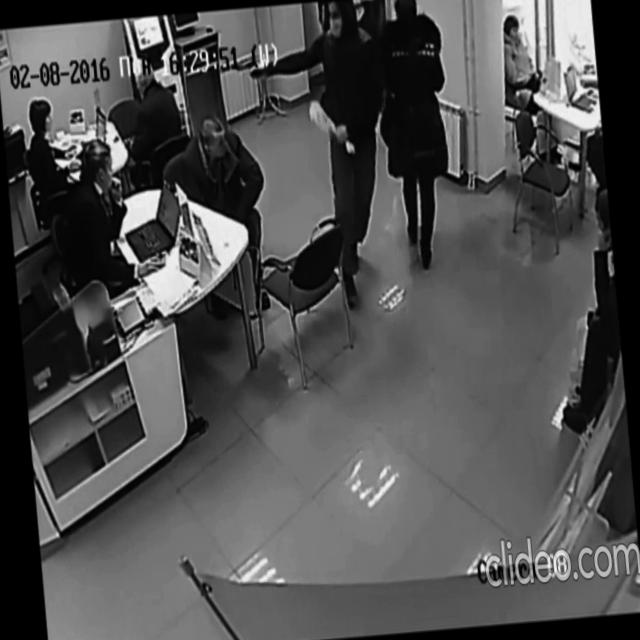gun: (236, 56, 266, 84)
person: (367, 0, 462, 275), (176, 109, 277, 318), (58, 132, 168, 298), (496, 9, 564, 168), (24, 94, 86, 216)
person with a gun: (232, 0, 403, 318)
